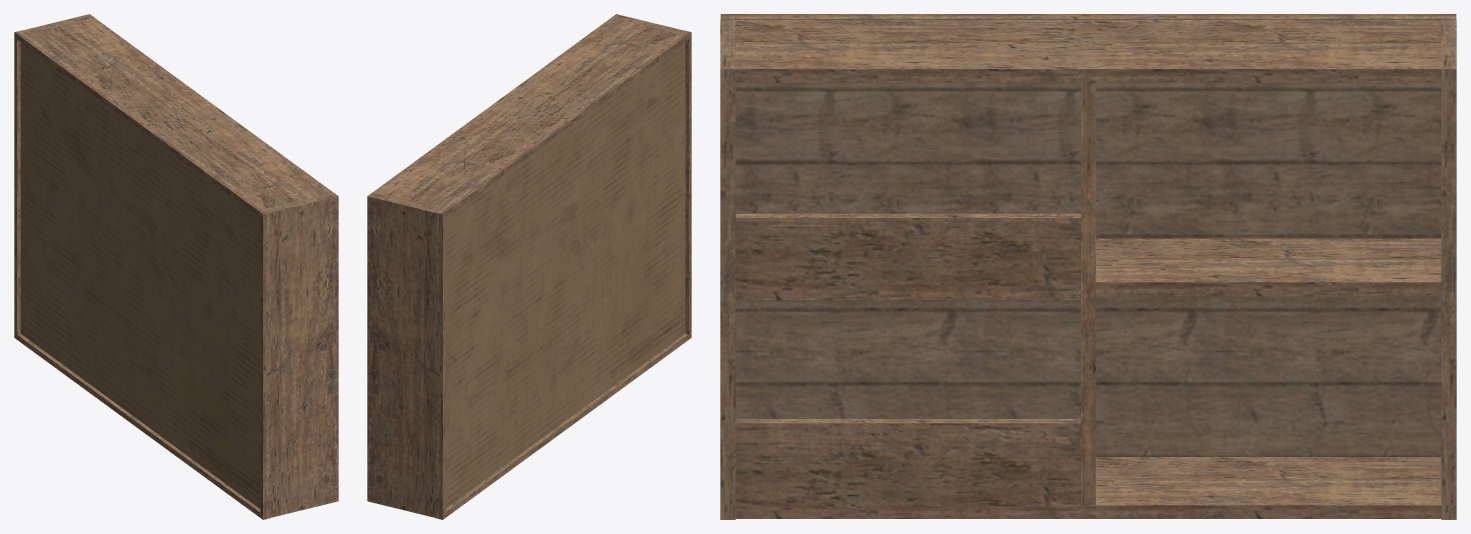
File: simple_wall_shelf.glb
The picture shows the model from 3 angles, left to right: view 1: azimuth 30°, elevation 25°; view 2: azimuth 150°, elevation 25°; view 3: azimuth 270°, elevation 25°; orthographic projection. The views are drawn at different scales.
Parts seen in each view (by area): view 1: Object_2; view 2: Object_2; view 3: Object_2.
Boxes of the visible parts, box(x1,y1,x2,y2) form: Object_2: box(14, 14, 338, 519); Object_2: box(367, 14, 691, 519); Object_2: box(720, 14, 1456, 519).
Size of the model in its own units: 1.07 by 4.15 by 6.13.
1 material, 1 textured.
